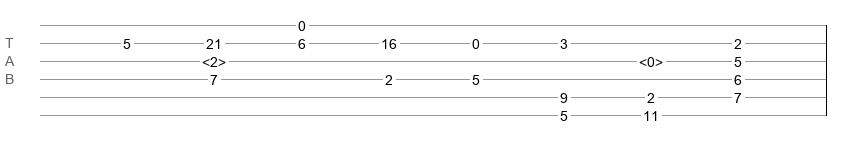0: (298, 18, 306, 28), (472, 36, 480, 46)
11: (643, 108, 659, 118)
16: (381, 36, 397, 46)
2: (385, 72, 393, 82), (647, 90, 655, 100), (734, 36, 742, 46)
21: (206, 36, 222, 46)
3: (560, 36, 568, 46)
5: (123, 36, 131, 46), (472, 72, 480, 82), (560, 108, 568, 118), (734, 54, 742, 64)
6: (298, 36, 306, 46), (734, 72, 742, 82)
7: (210, 72, 218, 82), (734, 90, 742, 100)
9: (560, 90, 568, 100)
harmonic: (202, 54, 226, 64), (639, 54, 663, 64)
